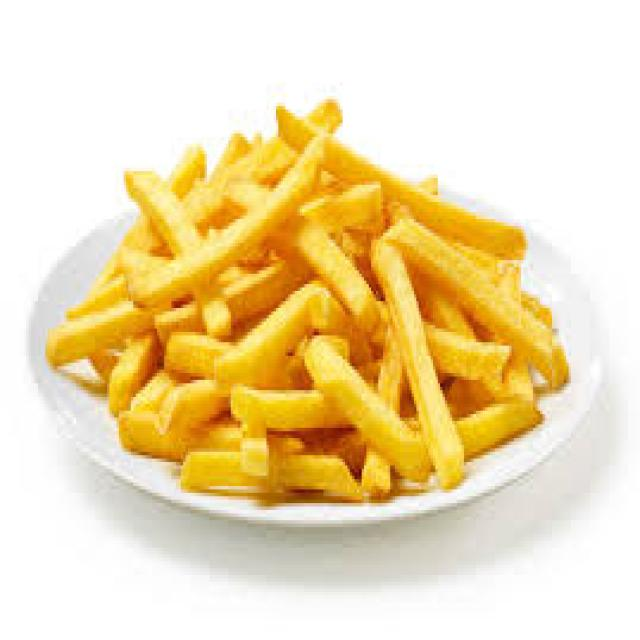감자튀김: (38, 103, 571, 510)
